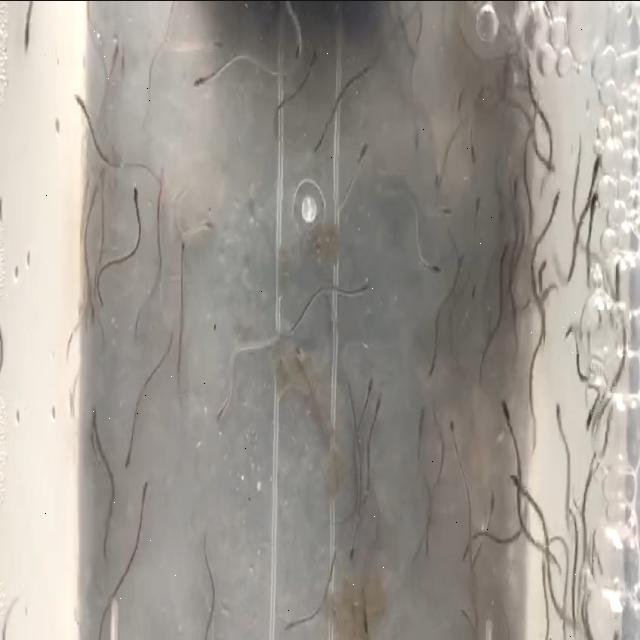active_glass_eel: (498, 394, 514, 432), (202, 36, 226, 60), (446, 410, 460, 450), (18, 10, 30, 56), (422, 252, 440, 282), (281, 613, 304, 636), (548, 183, 562, 220), (462, 530, 476, 566), (500, 234, 512, 276), (371, 384, 386, 417), (427, 154, 442, 187), (214, 394, 228, 429), (306, 135, 326, 159), (580, 406, 595, 438), (454, 74, 466, 114), (294, 24, 306, 62), (414, 399, 426, 436), (86, 403, 99, 437), (541, 156, 561, 178), (196, 212, 214, 236), (554, 401, 566, 437), (345, 535, 360, 563), (356, 137, 371, 165), (466, 133, 479, 165), (357, 273, 374, 297), (591, 146, 603, 180), (510, 471, 526, 496), (437, 198, 455, 220), (191, 74, 210, 94), (411, 116, 422, 150), (138, 477, 150, 508), (365, 373, 377, 403), (472, 188, 484, 218), (467, 280, 477, 316), (589, 187, 599, 221), (131, 177, 141, 208), (72, 94, 86, 115), (176, 235, 188, 259), (124, 446, 134, 474), (486, 488, 496, 512)
